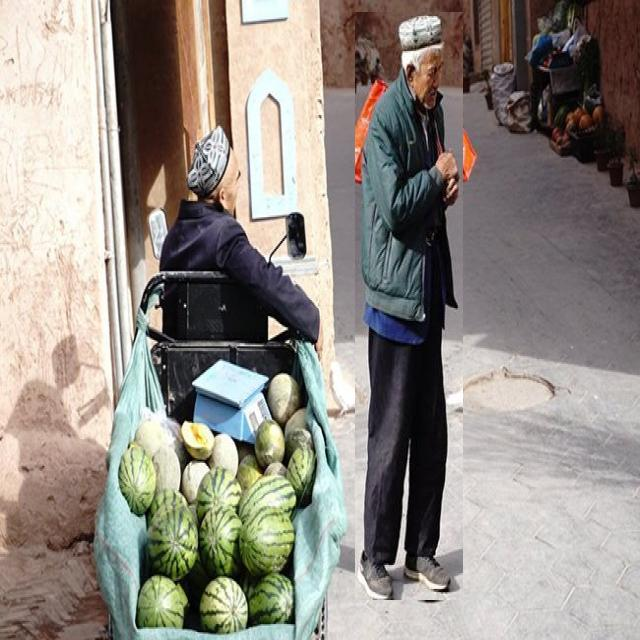direk: (355, 12, 463, 600), (156, 125, 328, 365)
